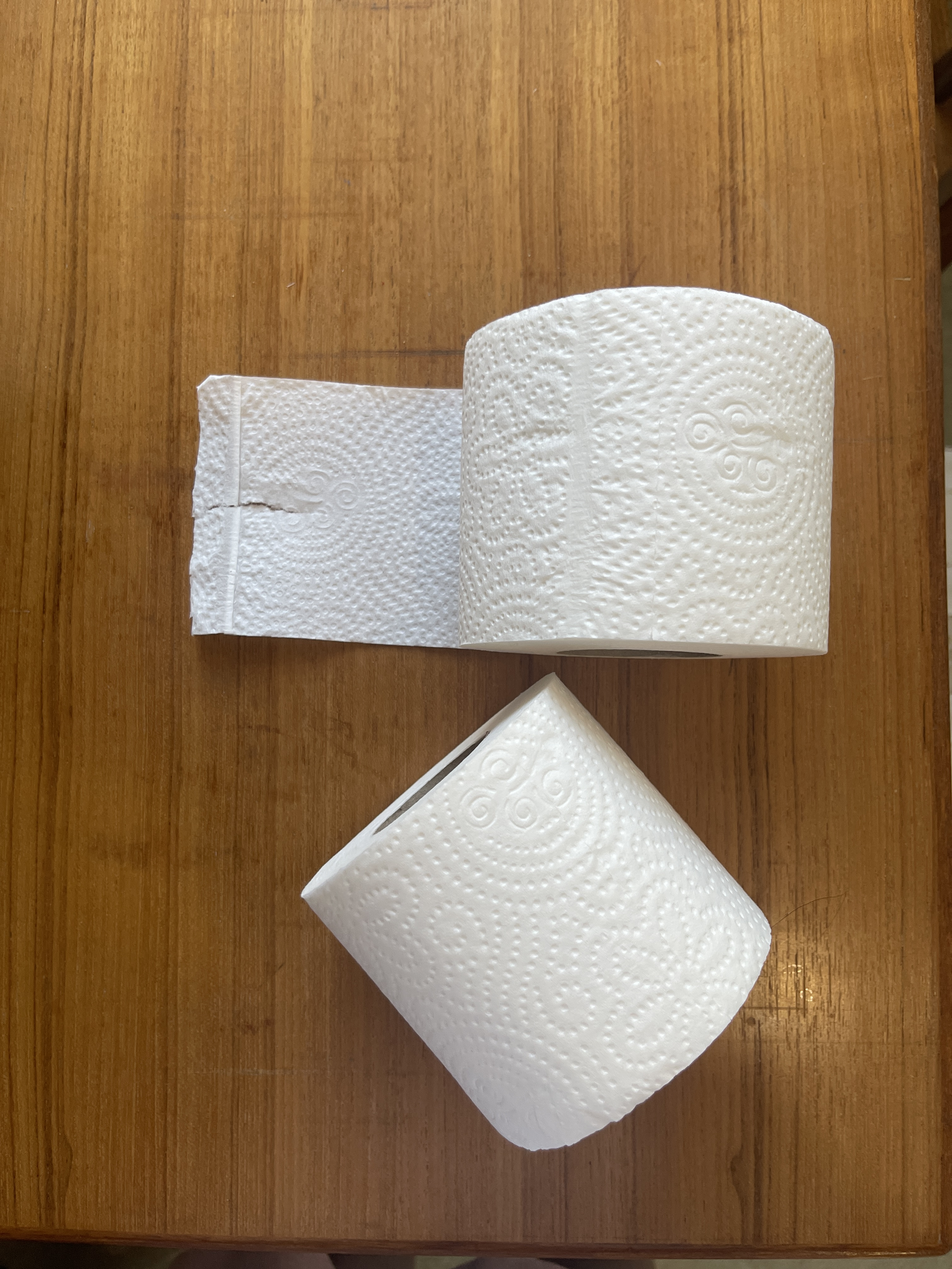paper: (188, 274, 840, 665), (296, 670, 774, 1154)
